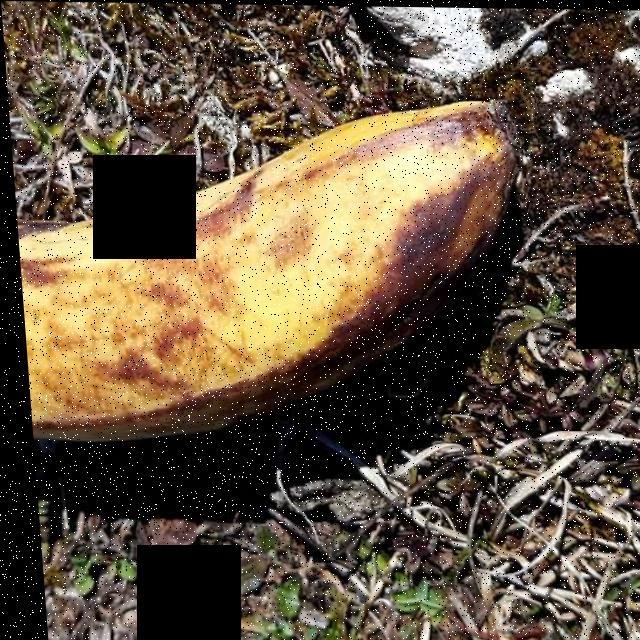banana: (36, 112, 502, 432)
